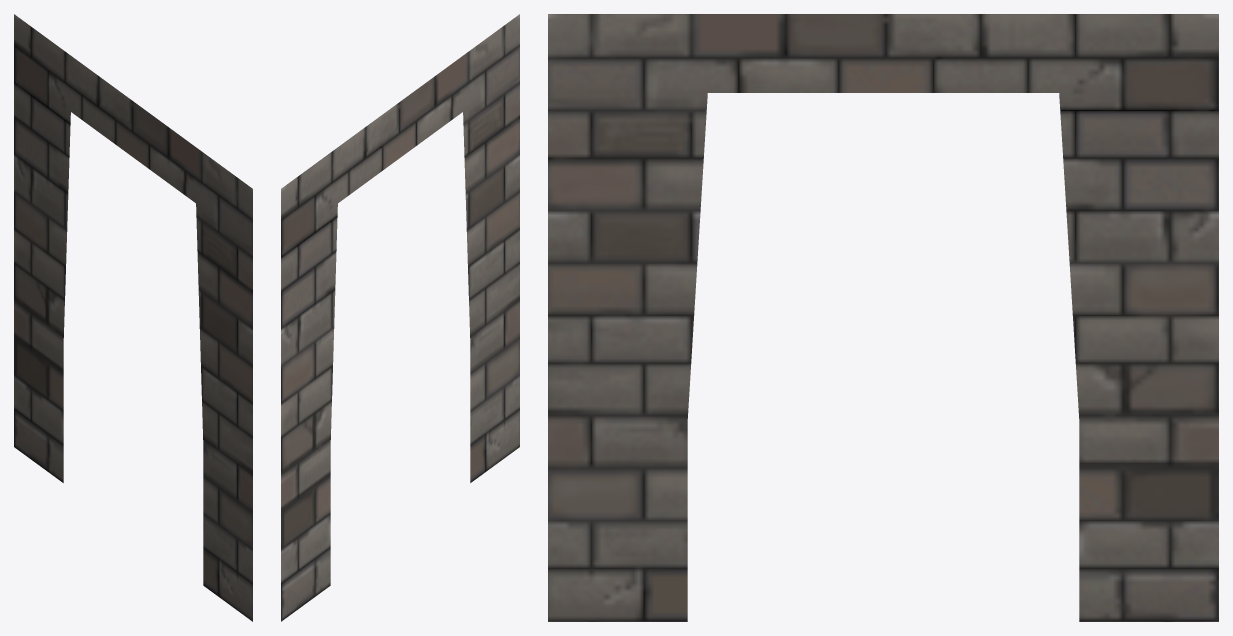
File: wallgate.fbx
3 renders of one model, left to right at view 1: azimuth 30°, elevation 25°; view 2: azimuth 150°, elevation 25°; view 3: azimuth 270°, elevation 25°, orthographic. The views are drawn at different scales.
Visible parts, largest first — view 1: pPlane1; view 2: pPlane1; view 3: pPlane1.
Part boxes in pixels (x1,y1,x2,y2): pPlane1: (14,14,252,621); pPlane1: (281,14,519,621); pPlane1: (548,14,1218,621).
Size of the model in its own units: 0 by 1000 by 1000.
